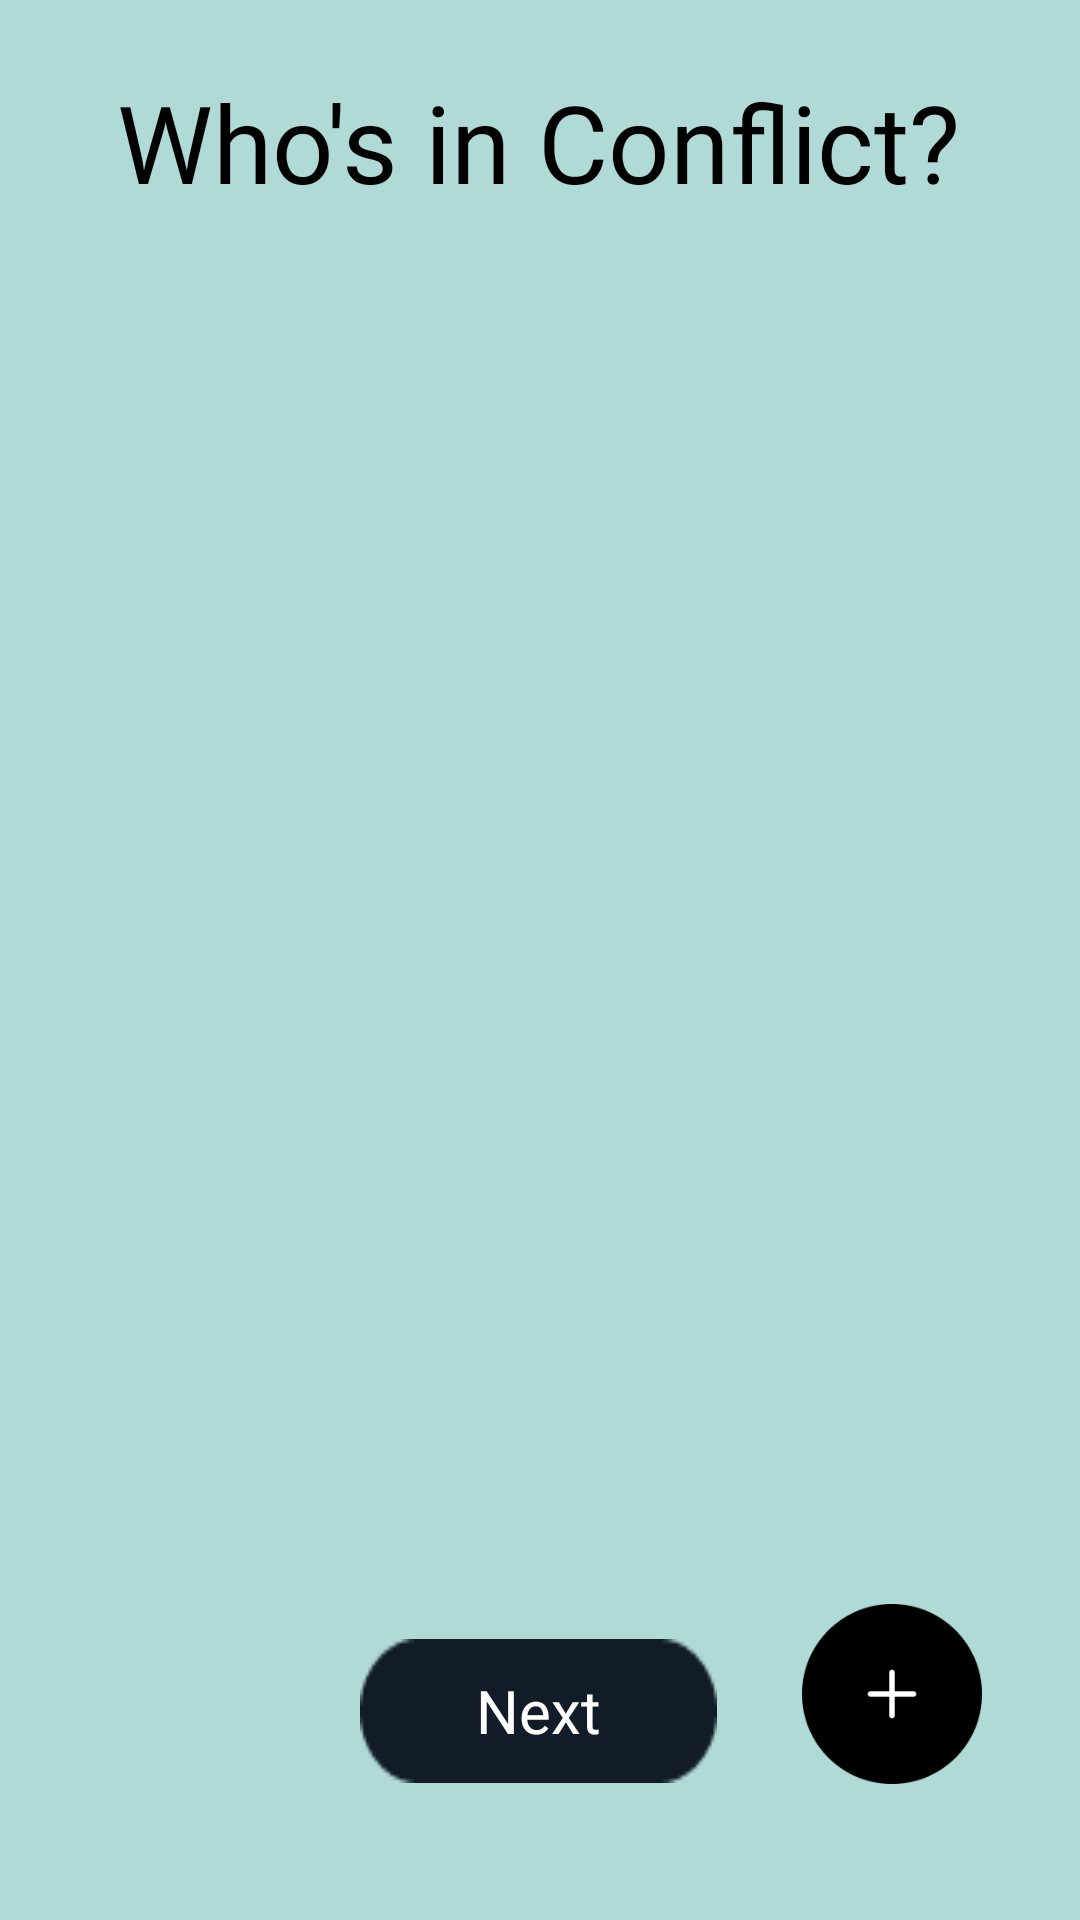

Locate icon controls on the screen. Image size 1080 x 1920, boxes as (x1, y1, x2, y2).
plus: (802, 1604, 982, 1784)
